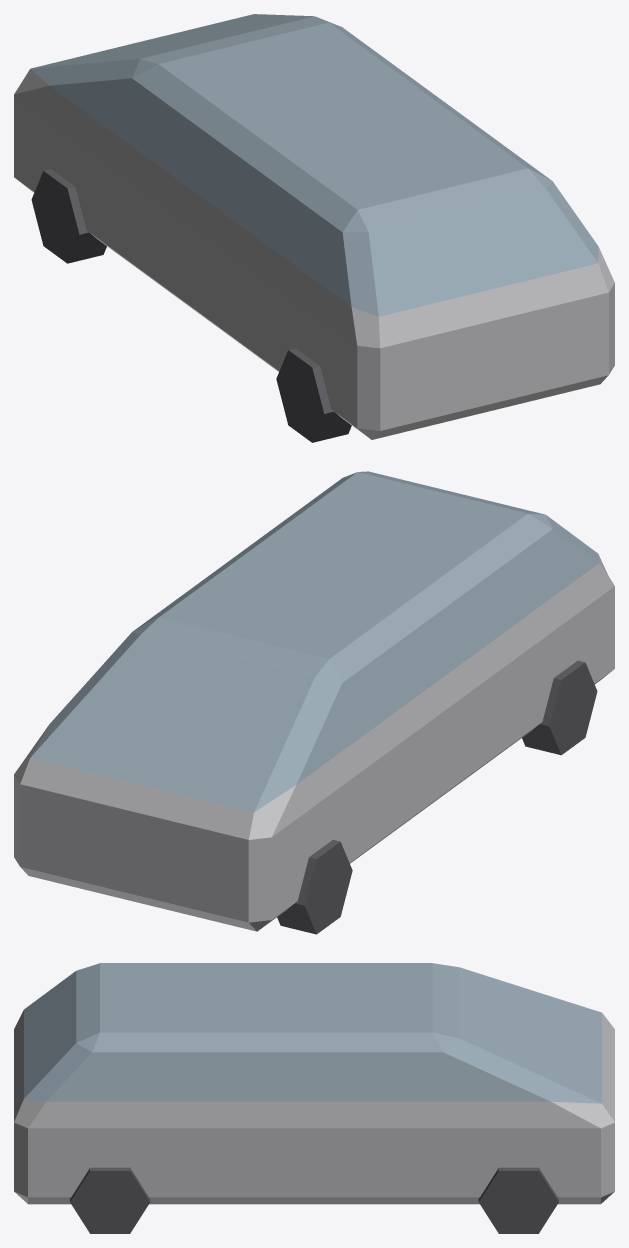
Rendered from veh_car.glb.
3 views of the same model, one above another, from view 1: azimuth 30°, elevation 25°; view 2: azimuth 150°, elevation 25°; view 3: azimuth 270°, elevation 25° (orthographic). The views are drawn at different scales.
Parts seen in each view (by area): view 1: car; view 2: car; view 3: car.
Boxes of the visible parts, box(x1,y1,x2,y2) form: car: box(14, 14, 614, 442); car: box(14, 471, 614, 934); car: box(14, 963, 614, 1233).
Size of the model in its own units: 0.0657 by 0.0497 by 0.15.
